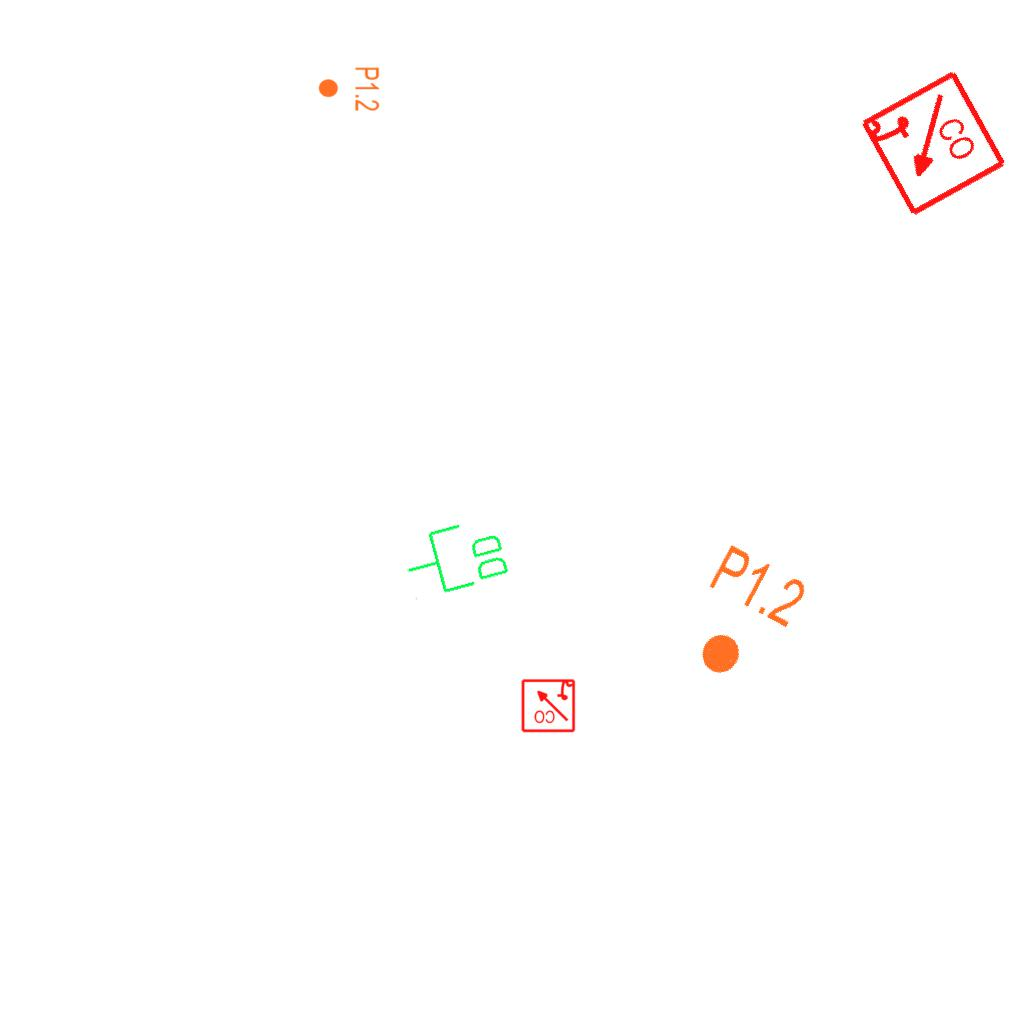Datenanschluss_zweifach: (396, 511, 515, 606)
Downlight_LED_Einbauleuchten_Flur: (670, 539, 813, 697), (317, 66, 381, 112)
ROA_Rauchmelder_optisch_mit_Signalgeber_(Sockelsirene): (855, 67, 1010, 222), (520, 677, 576, 733)
